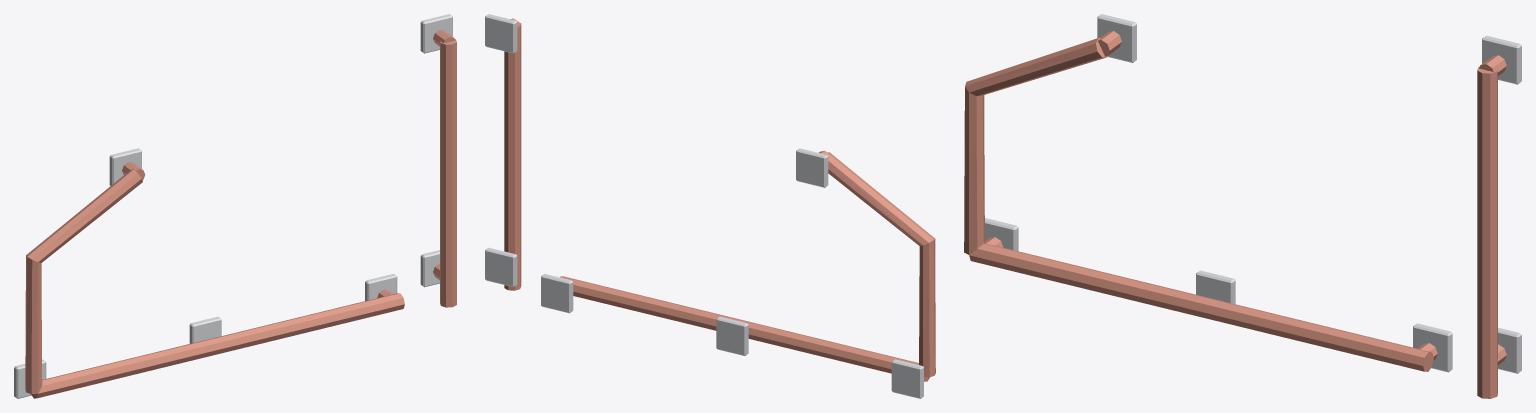
Rendered from care-home-and-day-room-grab-rail-set-1904243a__35757.glb.
The picture shows the model from 3 angles, left to right: view 1: azimuth 30°, elevation 25°; view 2: azimuth 150°, elevation 25°; view 3: azimuth 330°, elevation 25°; orthographic projection. The views are drawn at different scales.
Parts seen in each view (by area): view 1: grab-rail-set; view 2: grab-rail-set; view 3: grab-rail-set.
Boxes of the visible parts, left/top/right/bottom form: grab-rail-set: left=14, top=14, right=456, bottom=398; grab-rail-set: left=485, top=14, right=935, bottom=398; grab-rail-set: left=964, top=14, right=1521, bottom=398.
Size of the model in its own units: 1.1 by 0.665 by 0.077.
